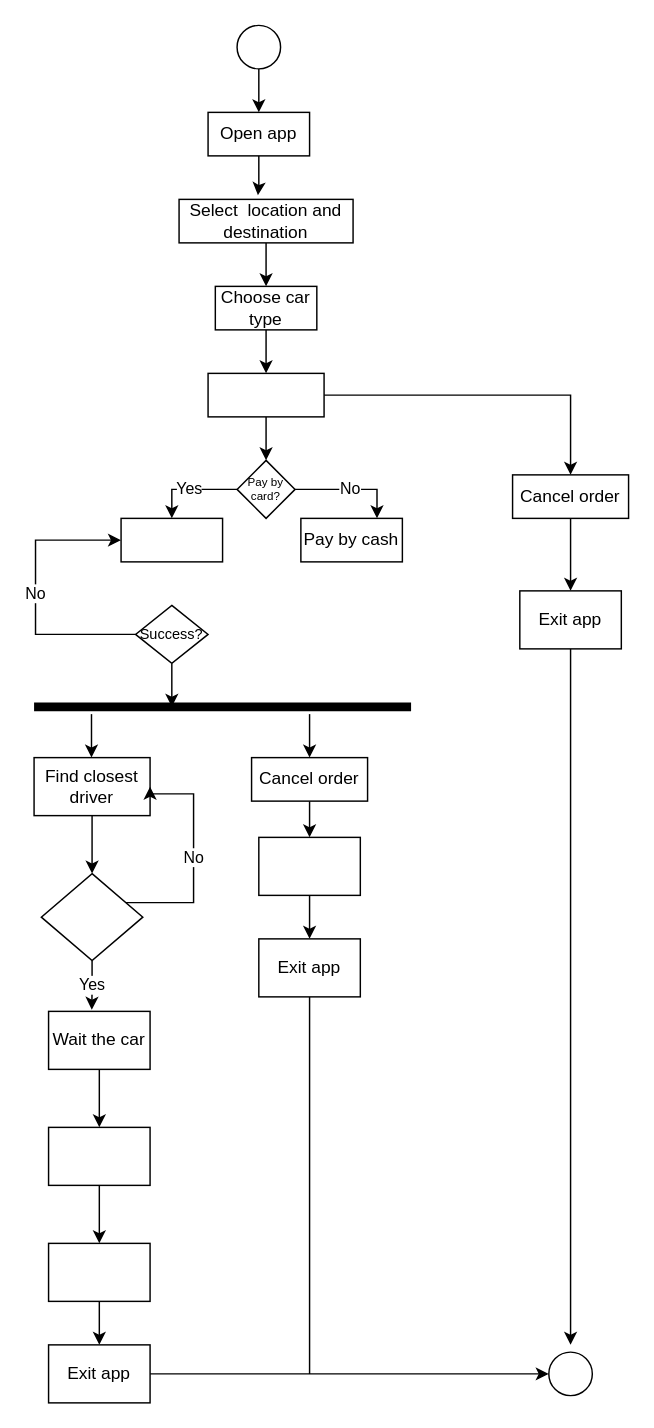
The diagram is 654 pixels wide and 1428 high, and some of its shapes have lost their labels. Here are the shapes that lost their labels. From the top down, the centre of each, then its label:
At (x=265, y=394): "Book taxi".
At (x=171, y=539): "Pay by card".
At (x=308, y=865): "Refund money".
At (x=91, y=916): "Driver accept the order?".
At (x=98, y=1155): "Reach destination".
At (x=98, y=1271): "Rate the driver".
